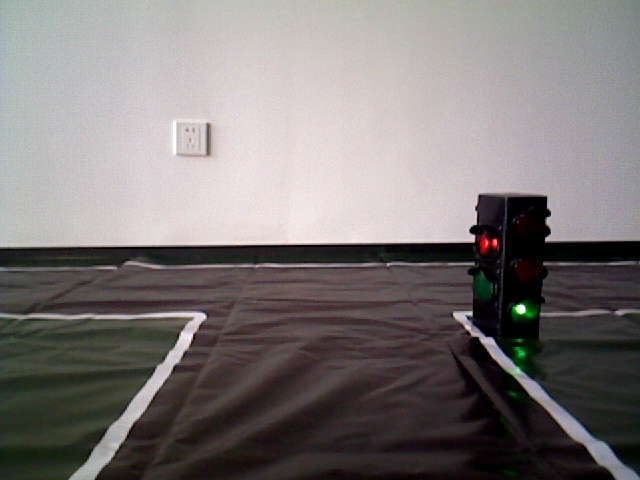green: (477, 196, 545, 331)
